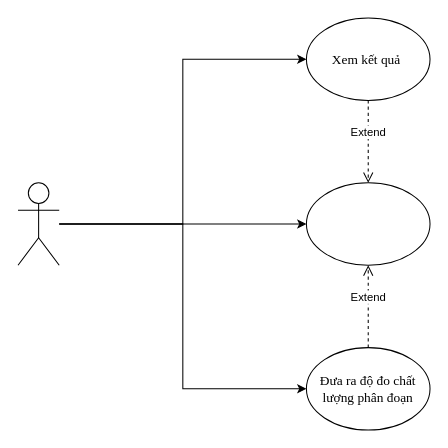
Some shapes in this 448 by 448 pixel diagram are drawn without their labels. The shapes that lost their labels are listed below. From the top down, each one's centre as x and y in pixels, then its label:
At pixel 38 223: "User".
At pixel 367 223: "Phân đoạn ảnh vệ tinh".
